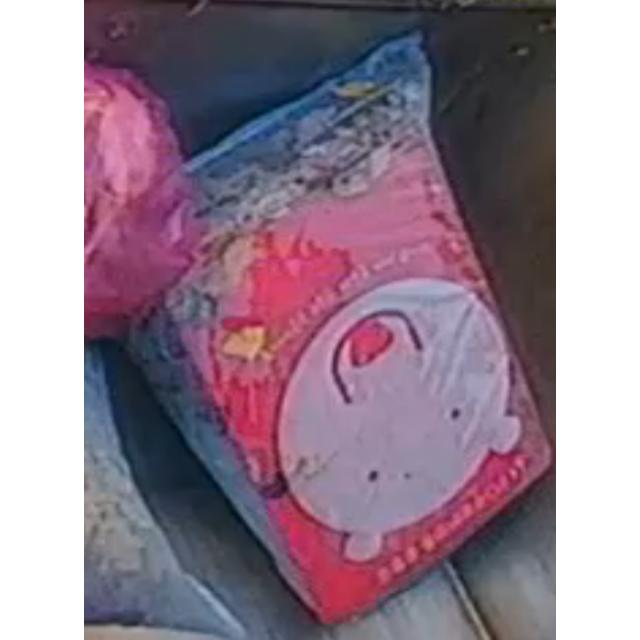general_trashbag: (130, 35, 552, 622)
